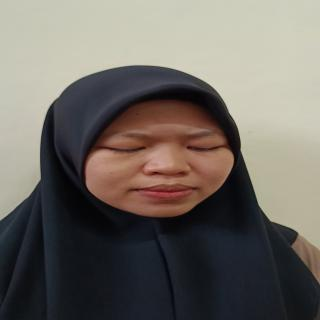Sedih: (80, 90, 237, 224)
